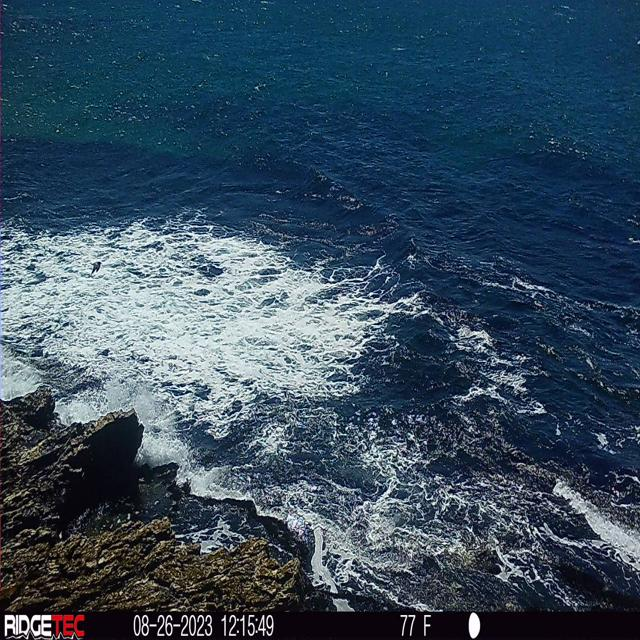bird: (91, 261, 102, 276)
